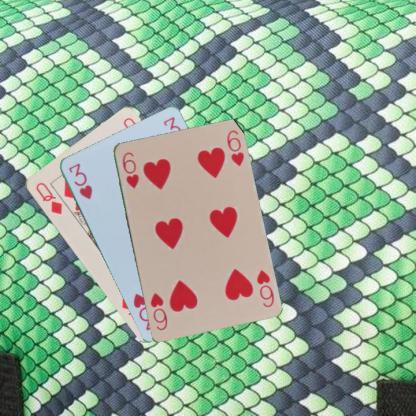3h: (66, 160, 93, 201)
6h: (119, 149, 140, 190), (254, 267, 275, 308)
Qd: (33, 179, 63, 216)
